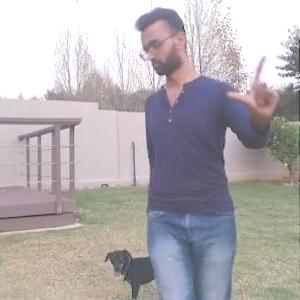land_hand: (227, 48, 284, 121)
